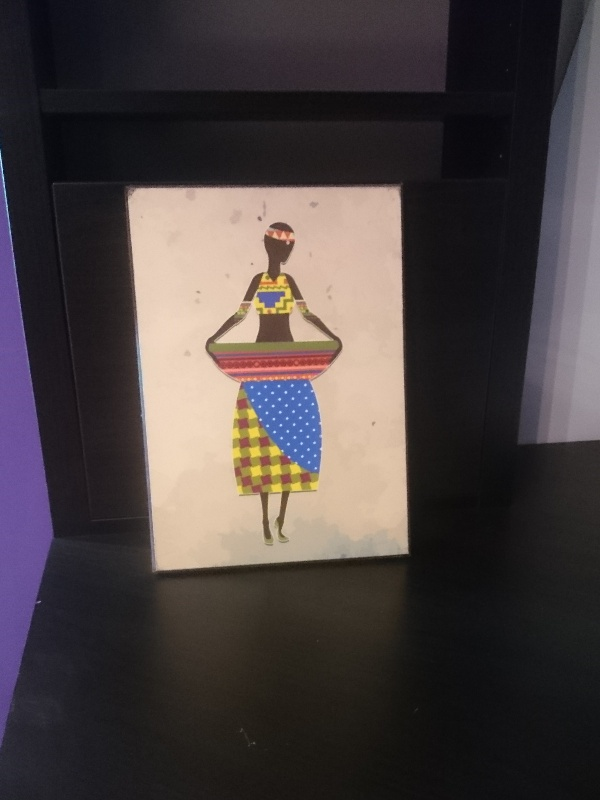my image: (129, 189, 402, 576)
